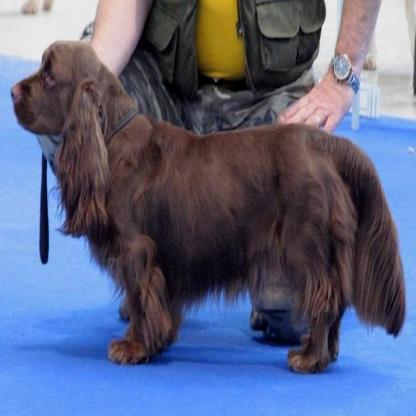Sussex_spaniel: (9, 38, 406, 374)
